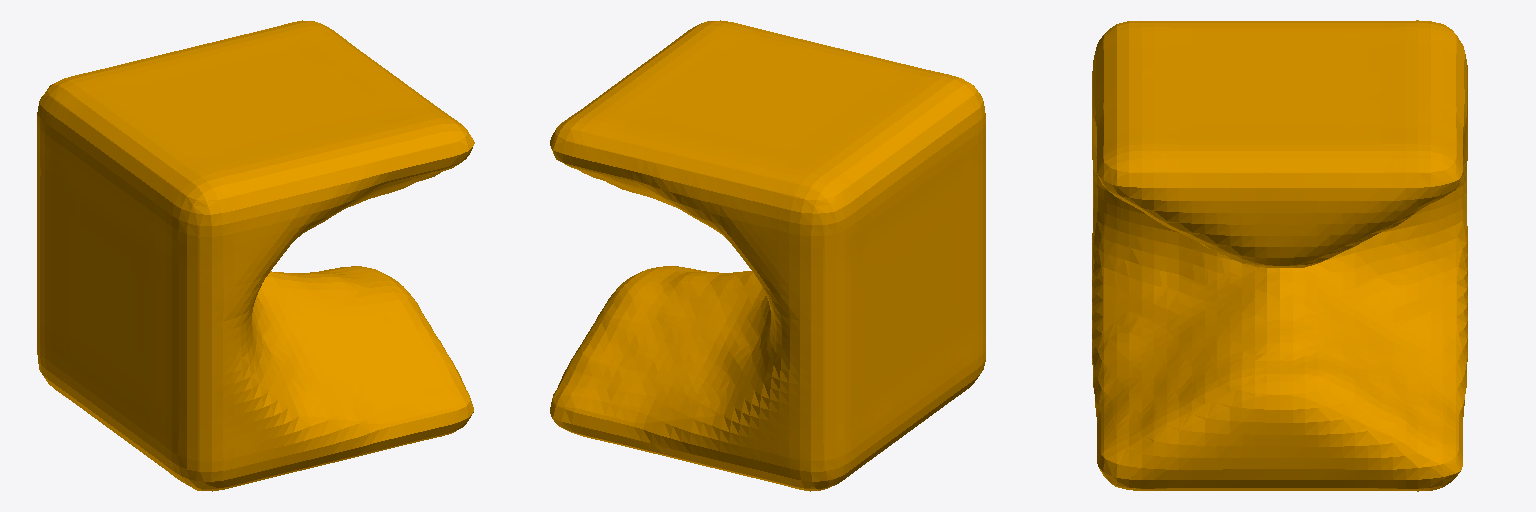
The robot description file, URDF, robot "object":
<?xml version="1.0"?>
        <robot name="object">
          <link name="object">
            <visual>
              <origin xyz="0.0 0.0 0.0"/>
              <geometry>
                <mesh filename="D0.stl" scale="1.00 1.00 1.00"/>
              </geometry>
            </visual>
            <collision>
              <origin xyz="0.0 0.0 0.0"/>
              <geometry>
                <mesh filename="D0.stl" scale="1.00 1.00 1.00"/>
              </geometry>
            </collision>
          </link>
        </robot>

--- What the picture shows (computed from the rendered views, not written in the file) ---
Views: 3 orthographic renders of the robot side by side, from view 1: azimuth 30°, elevation 25°; view 2: azimuth 150°, elevation 25°; view 3: azimuth 270°, elevation 25°.
Model object with 1 links and 0 joints (none), rooted at object, posed all joints at 0.
Visible links, largest first — view 1: object; view 2: object; view 3: object.
Link boxes in pixels (box(x1,y1,x2,y2)): object: box(37, 20, 474, 491); object: box(550, 20, 985, 491); object: box(1092, 20, 1467, 491).
Size in the robot's own frame: 0.1 by 0.1 by 0.0999 metres.
1 mesh visuals loaded from 1 distinct referenced files (1 binary STL).